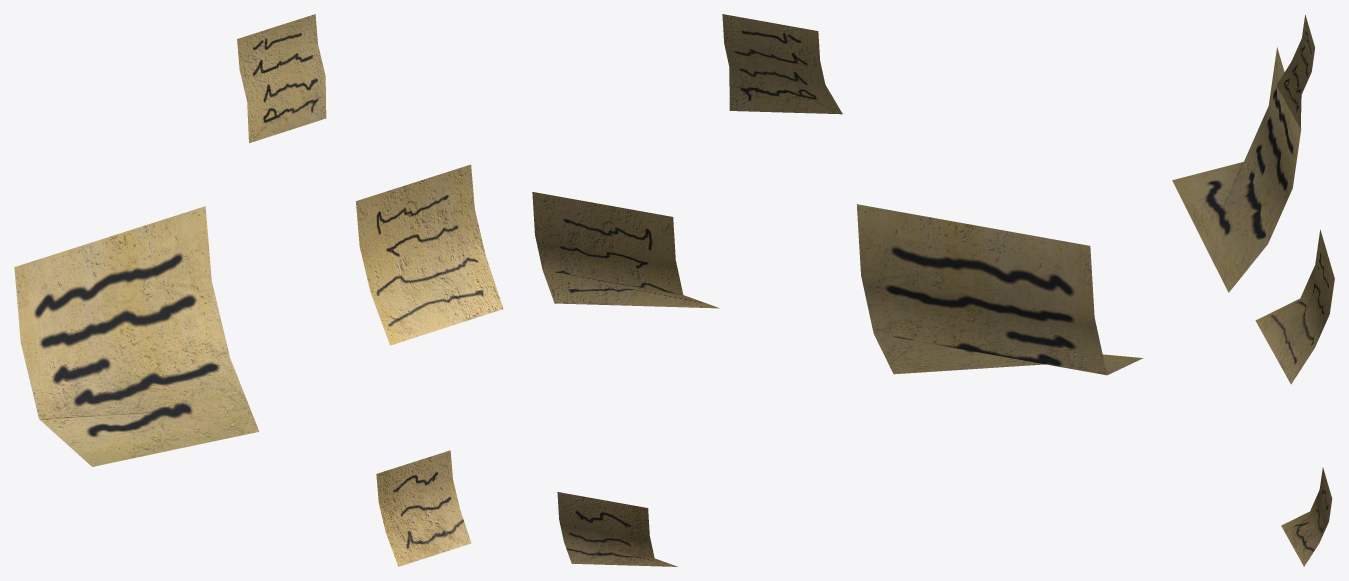
Rendered from _ote.FBX.
The picture shows the model from 3 angles, left to right: view 1: azimuth 30°, elevation 25°; view 2: azimuth 150°, elevation 25°; view 3: azimuth 270°, elevation 25°; orthographic projection. The views are drawn at different scales.
Parts seen in each view (by area): view 1: note; view 2: note; view 3: note.
Boxes of the visible parts, box(x1,y1,x2,y2) form: note: box(14, 14, 503, 566); note: box(532, 14, 1143, 566); note: box(1172, 15, 1334, 566).
Bounding box in the file's own units: 209 × 226 × 72.42.
